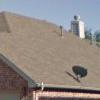Chimney: (68, 9, 86, 36)
